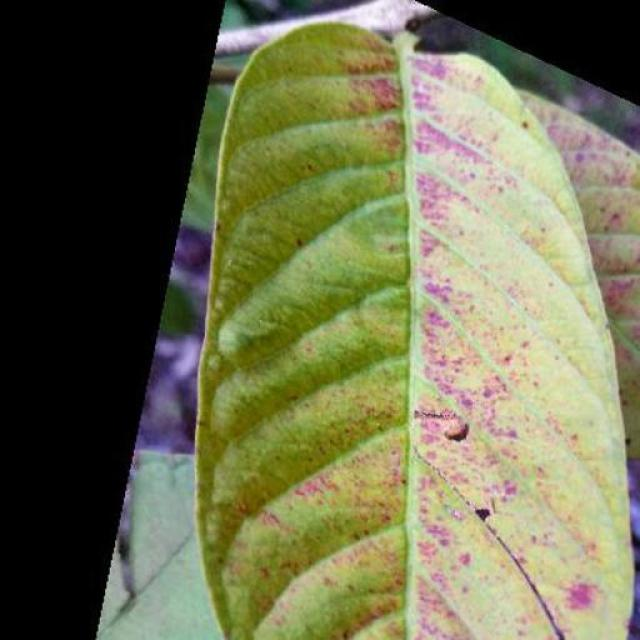Rust: (198, 24, 632, 639)
